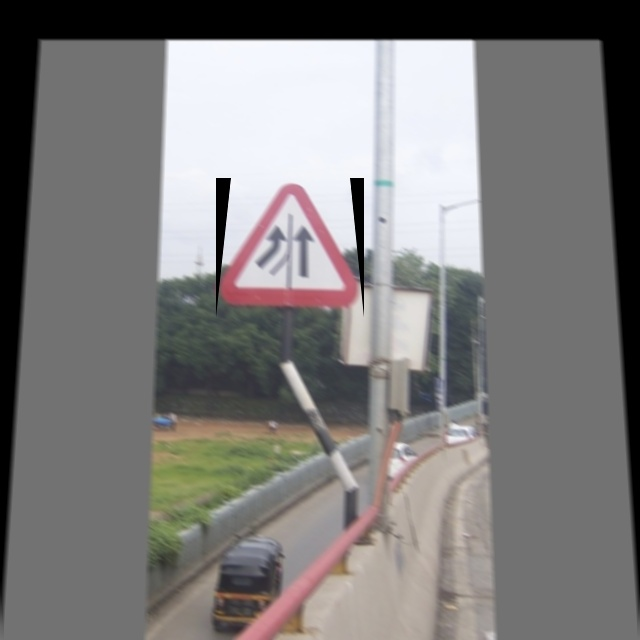Merge_Traffic_Ahead: (216, 178, 364, 318)
